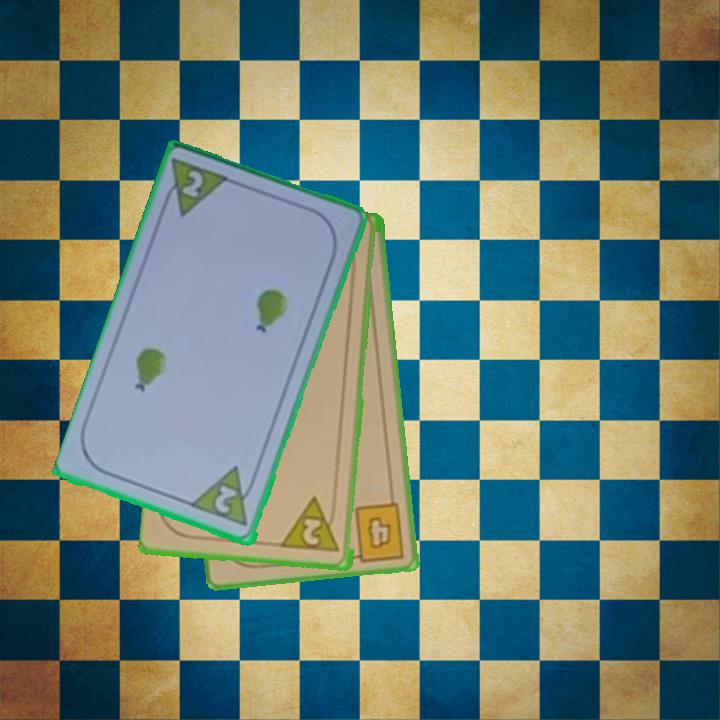2p: (157, 155, 234, 222), (280, 494, 343, 556), (211, 482, 241, 517)
4b: (345, 499, 407, 565)
